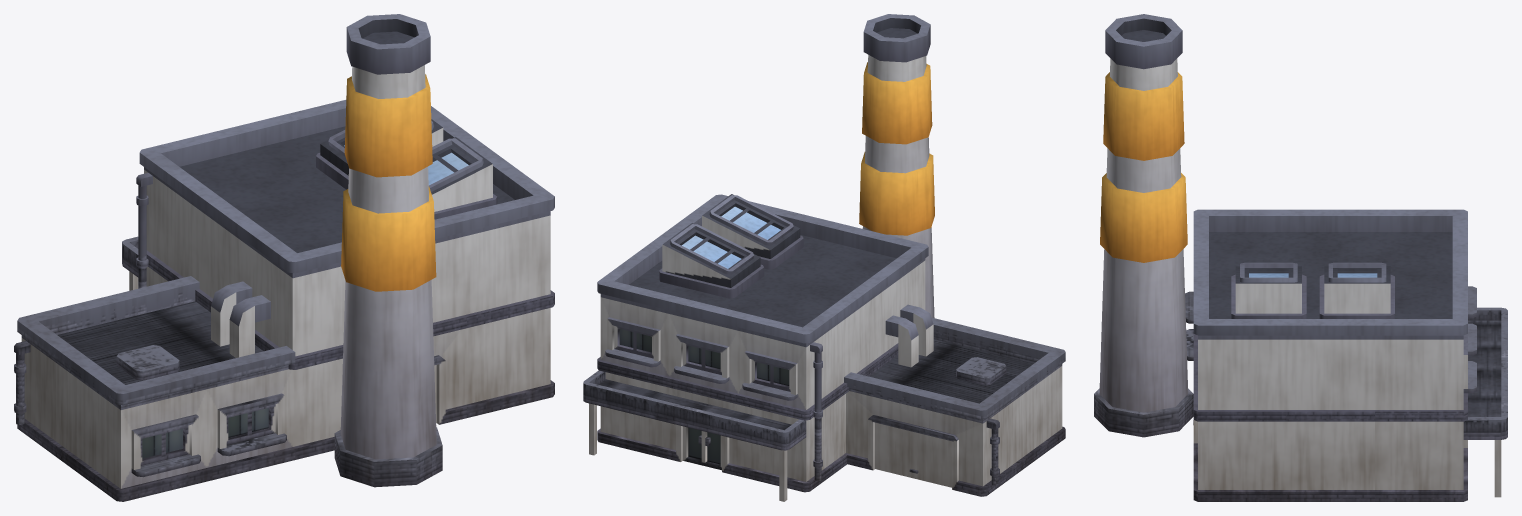
The model's file is building-l-white.glb.
The picture shows the model from 3 angles, left to right: view 1: azimuth 30°, elevation 25°; view 2: azimuth 150°, elevation 25°; view 3: azimuth 270°, elevation 25°; orthographic projection. The views are drawn at different scales.
Visible parts, largest first — view 1: building-l; view 2: building-l; view 3: building-l.
Boxes of the visible parts, <box> form: building-l: <box>14,14,554,501</box>; building-l: <box>583,14,1065,501</box>; building-l: <box>1094,14,1507,501</box>.
Size of the model in its own units: 2.08 by 1.92 by 1.87.
1 material, 1 textured.
